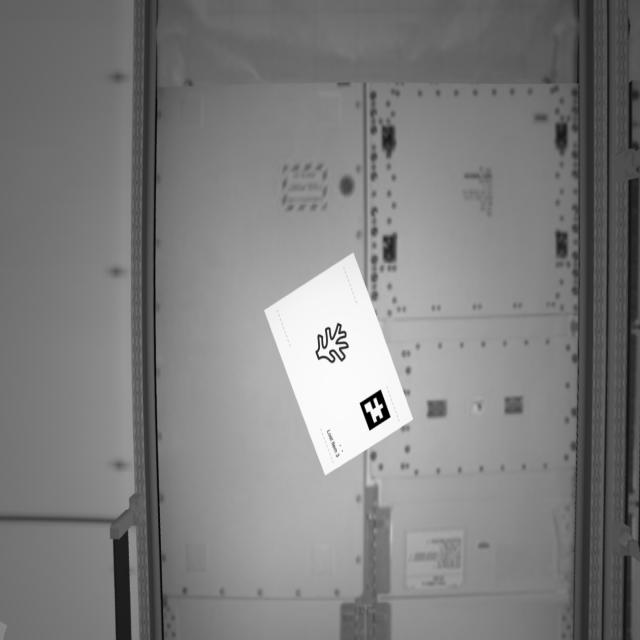coral: (312, 317, 356, 374)
